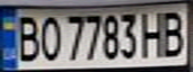3: (118, 10, 142, 60)
7: (81, 11, 103, 61), (63, 11, 84, 61)
8: (103, 10, 121, 61)
B: (9, 11, 42, 62), (157, 7, 190, 57)
H: (139, 8, 169, 59)
O: (36, 12, 63, 62)
